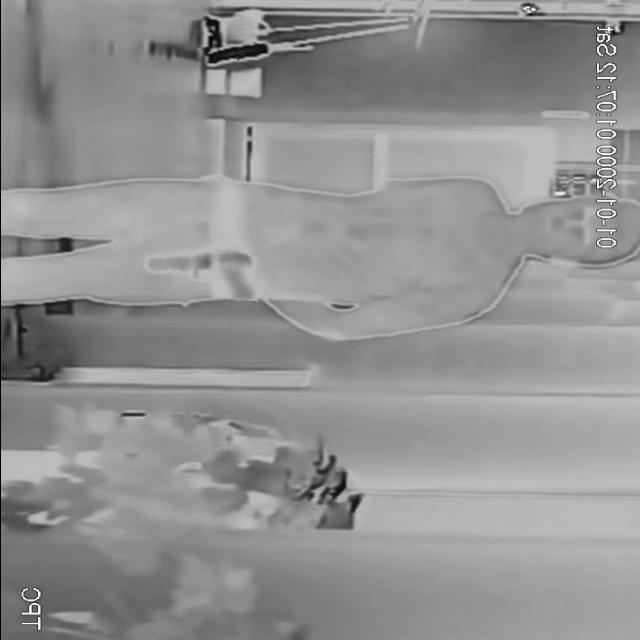Weapon: (137, 234, 261, 299)
